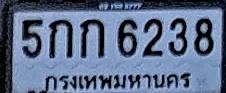2: (142, 18, 162, 56)
3: (168, 17, 187, 56)
5: (22, 18, 42, 58)
6: (118, 18, 138, 56)
8: (194, 17, 213, 55)
A01: (80, 18, 104, 58), (49, 19, 73, 58)
BKK: (42, 68, 194, 93)
